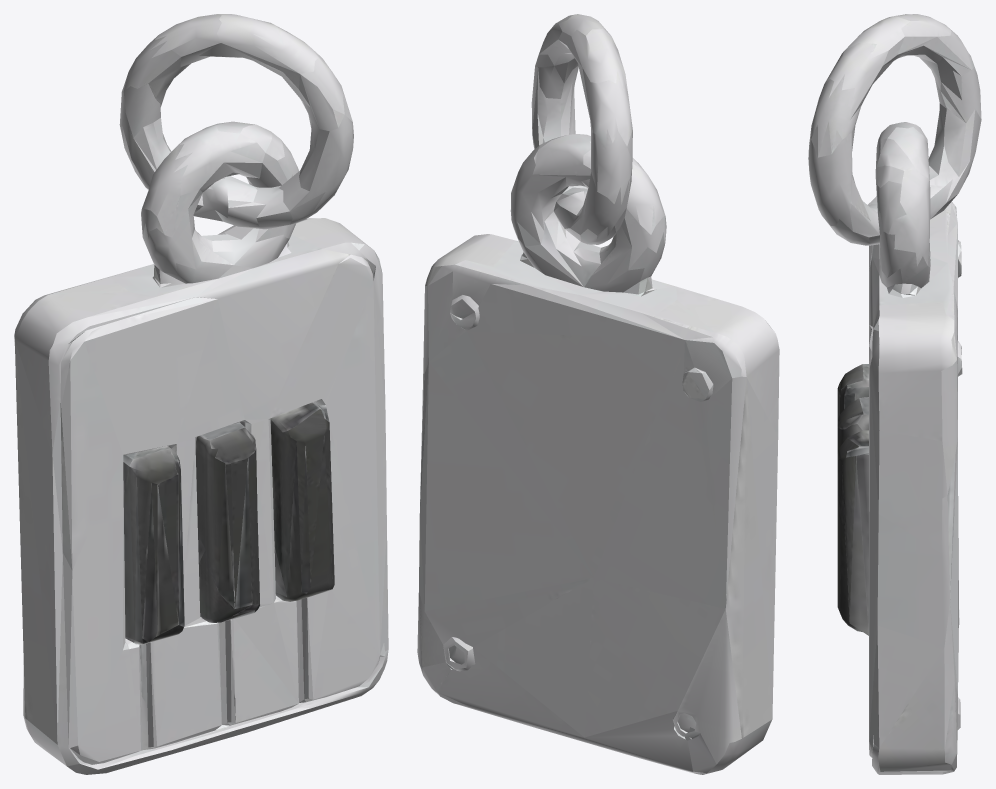
3 renders of one model, left to right at view 1: azimuth 30°, elevation 25°; view 2: azimuth 150°, elevation 25°; view 3: azimuth 270°, elevation 25°, orthographic. The views are drawn at different scales.
Bounding box in the file's own units: 0.4938 × 1 × 0.221.
Materials: 1 (1 with a texture image).
